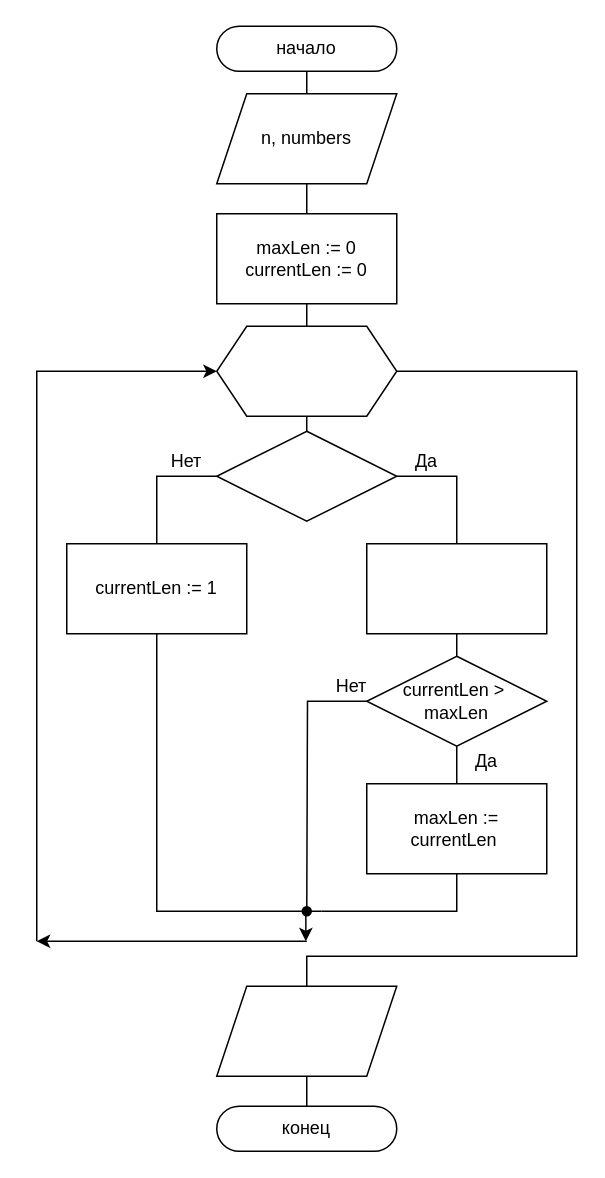
The diagram is 605 pixels wide and 1178 high, and some of its shapes have lost their labels. The centre of each missing label's shape, as x and y in pixels:
currentLen := currentLen + 1: the point at 456,588
i := 1, i ≤ n , i:=i+1: the point at 306,370
maxLen: the point at 306,1030
numbers[i] = numbers[i - 1]: the point at 306,475
